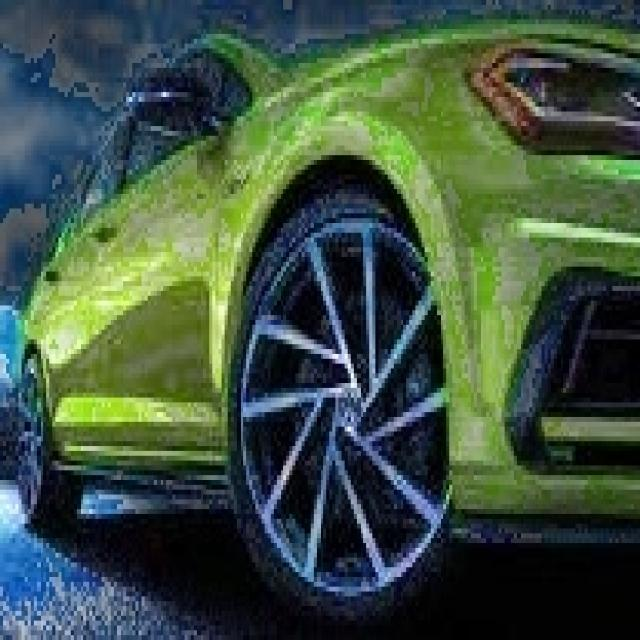green: (15, 24, 640, 640)
